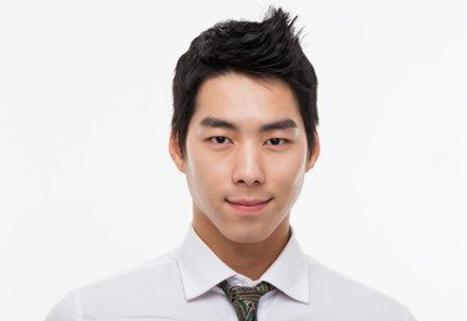Sober: (178, 80, 313, 221)
